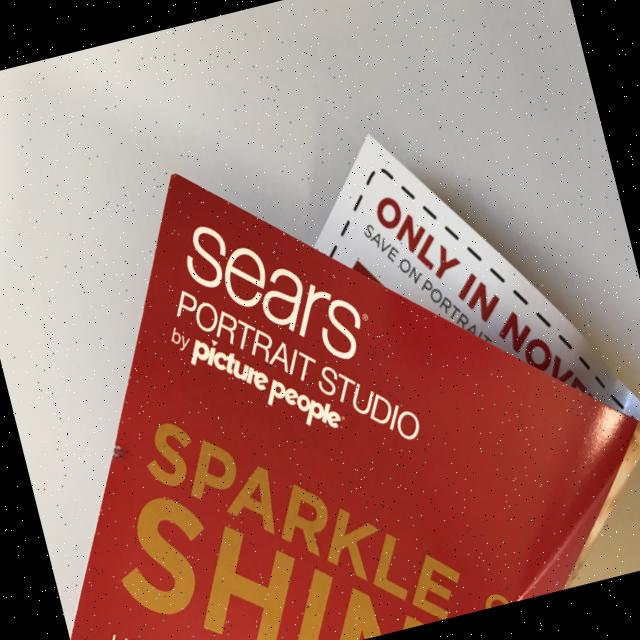paper: (0, 72, 640, 640)
